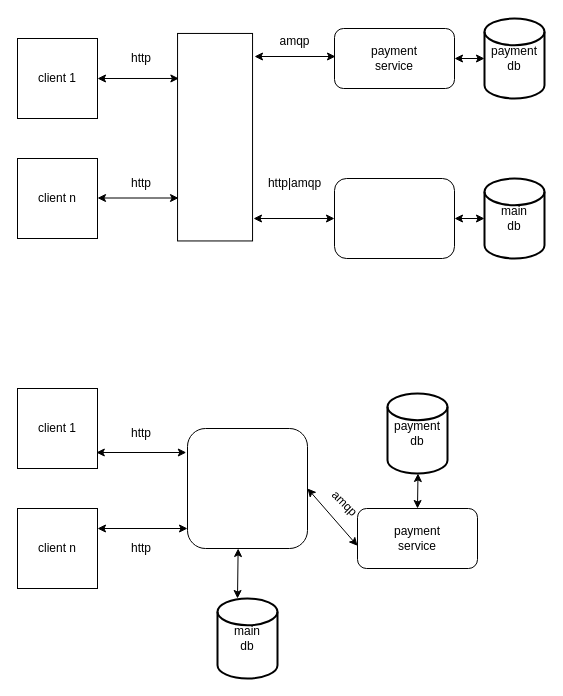
This 563x696 diagram has some shape labels left out. Here are the shapes that lost their labels. From the top down, the box of each, then its label:
(177, 32, 253, 241): api gate way
(334, 178, 454, 258): order role users and other monolit/service
(186, 428, 308, 548): main monolit
